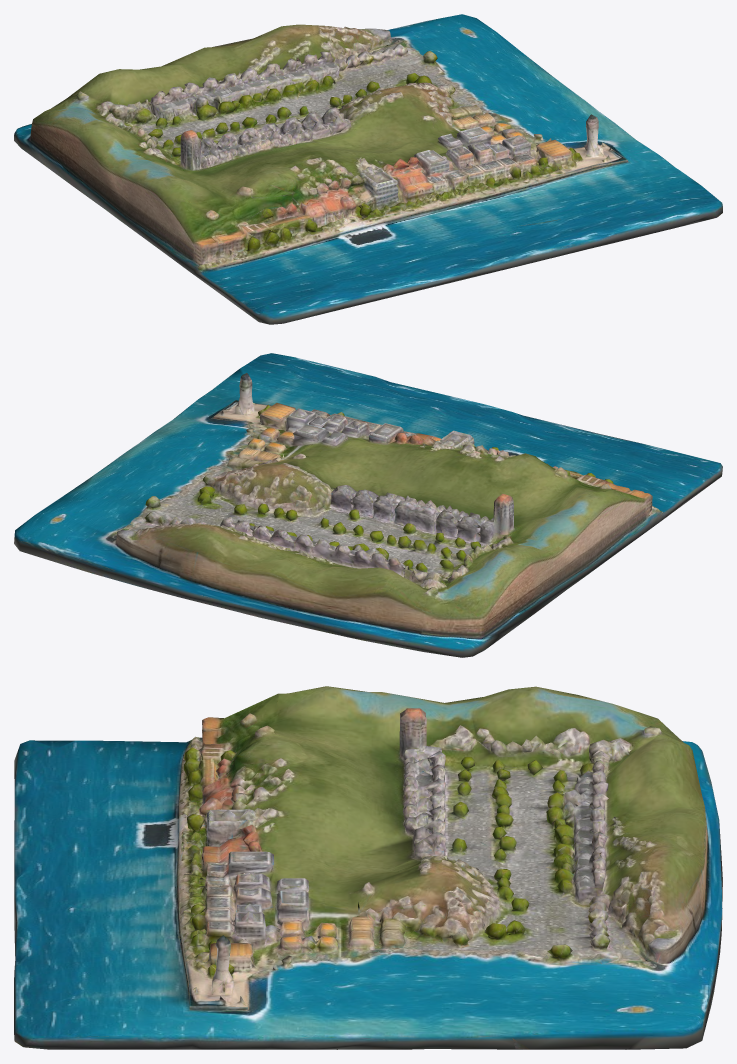
The model's file is city_izmir_gulf_shore.glb.
3 renders of one model, top to bottom at view 1: azimuth 30°, elevation 25°; view 2: azimuth 150°, elevation 25°; view 3: azimuth 270°, elevation 25°, orthographic. The views are drawn at different scales.
Parts seen in each view (by area): view 1: Mesh1.0; view 2: Mesh1.0; view 3: Mesh1.0.
Part boxes in pixels (bbox=[...]): Mesh1.0: bbox=[14, 14, 722, 324]; Mesh1.0: bbox=[14, 353, 722, 657]; Mesh1.0: bbox=[14, 686, 722, 1049].
Size of the model in its own units: 86.46 by 12 by 86.43.
Materials: 1 (1 with a texture image).
